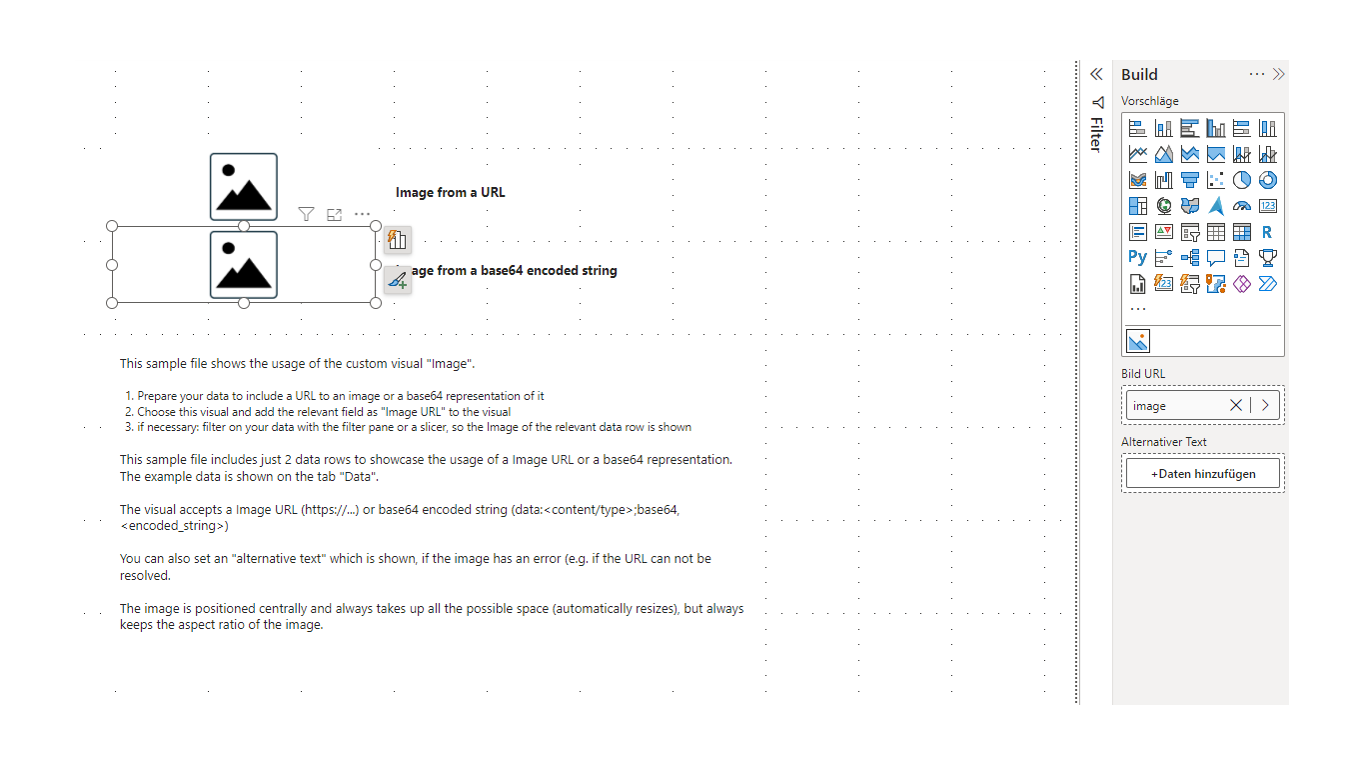

The page's visual inventory and layout, read from the dashboard file:
{"tool":"powerbi","page":{"name":"Showcase","canvas":[1280,720],"ordinal":0},"visuals":[{"type":"image9381D9E0B8224040987A3963DA557E0D","fields":{"imageurl":["Images.image"]},"box":[285.3,96,272,80],"z":1000},{"type":"image9381D9E0B8224040987A3963DA557E0D","fields":{"imageurl":["Images.image"]},"box":[285.3,176,272,80],"z":2000},{"type":"textbox","box":[573.3,128,208,32],"z":3000},{"type":"textbox","box":[573.3,208,256,32],"z":4000},{"type":"textbox","box":[288,304,672,352],"z":5000}]}

Visuals, with their boxes on the page's 1280x720 design canvas (x1, y1, x2, y2). These are canvas units, not pixel positions in the 1366x768 screenshot, which may show the page scaled, cropped or inside an application window:
image9381D9E0B8224040987A3963DA557E0D - Images.image: region(285, 96, 557, 176)
image9381D9E0B8224040987A3963DA557E0D - Images.image: region(285, 176, 557, 256)
textbox: region(573, 128, 781, 160)
textbox: region(573, 208, 829, 240)
textbox: region(288, 304, 960, 656)
